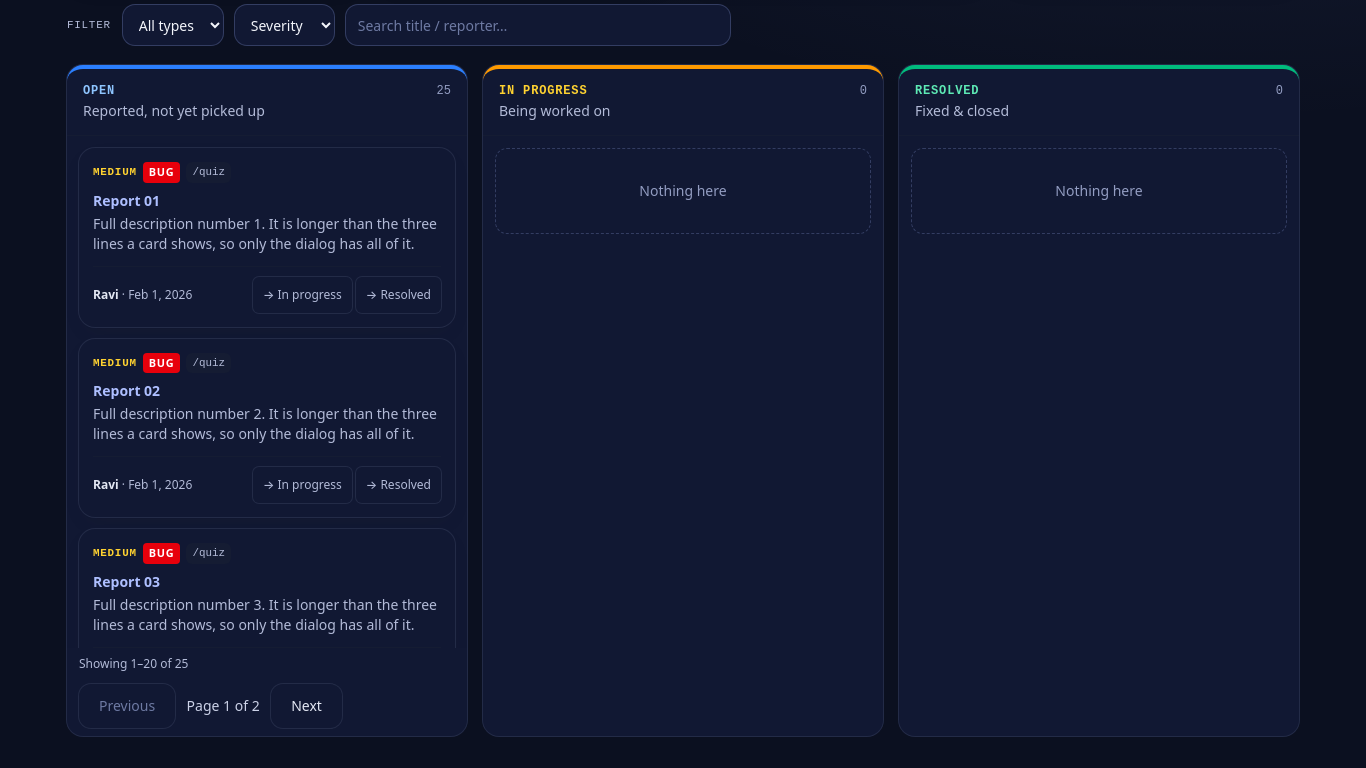
it: Bug Tracker: 20 cards per column page, and every card opens › a new filter sends every column back to page 1
The width and height of the screenshot is (1366, 768).
(page scrolled)
Click the button with aria-label "Open pagination: next page".
click(306, 706)  # box [271, 684, 342, 728]
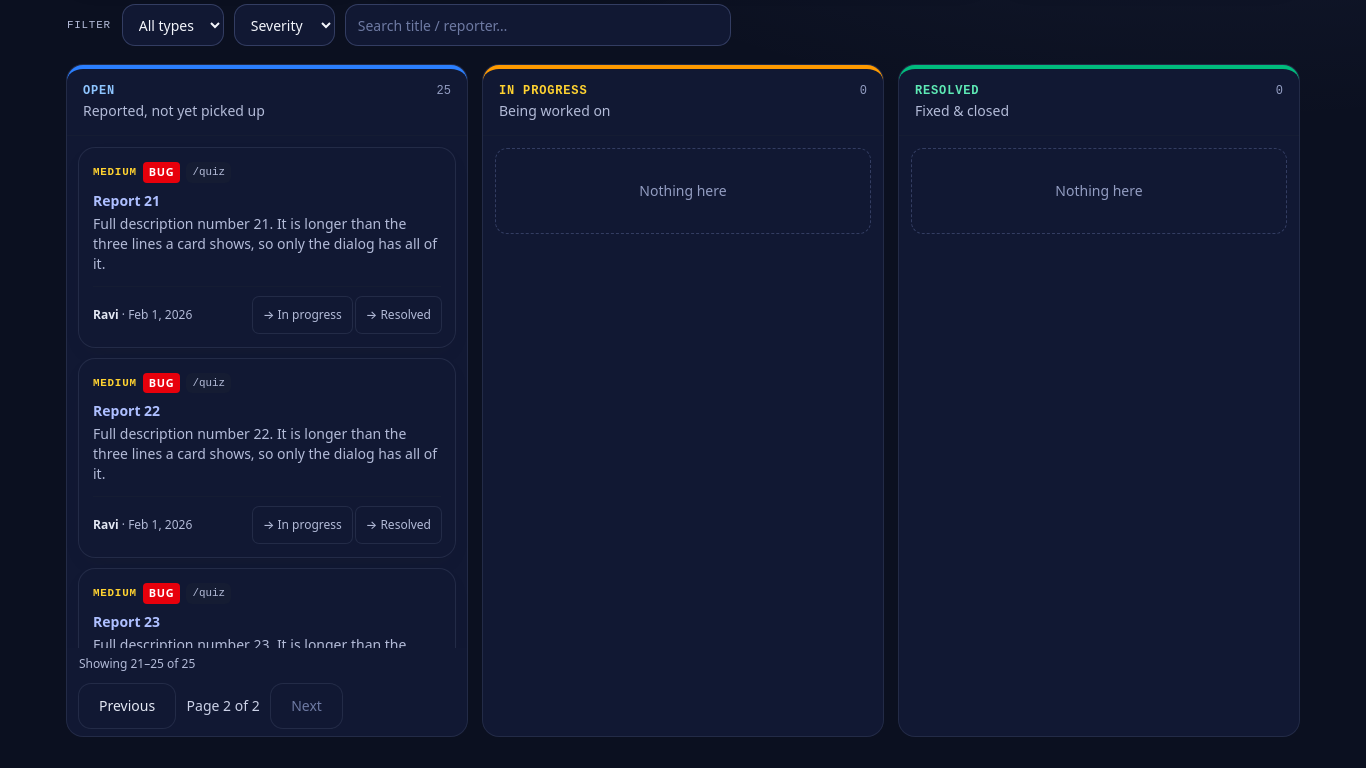
Expected: the text "Showing 21–25 of 25" is shown, [79, 656, 195, 672]
Type "Report 0" into the search field named "Search title or reporter".
click(538, 25); type("Report 0")  # box [346, 5, 730, 45]
(page scrolled)
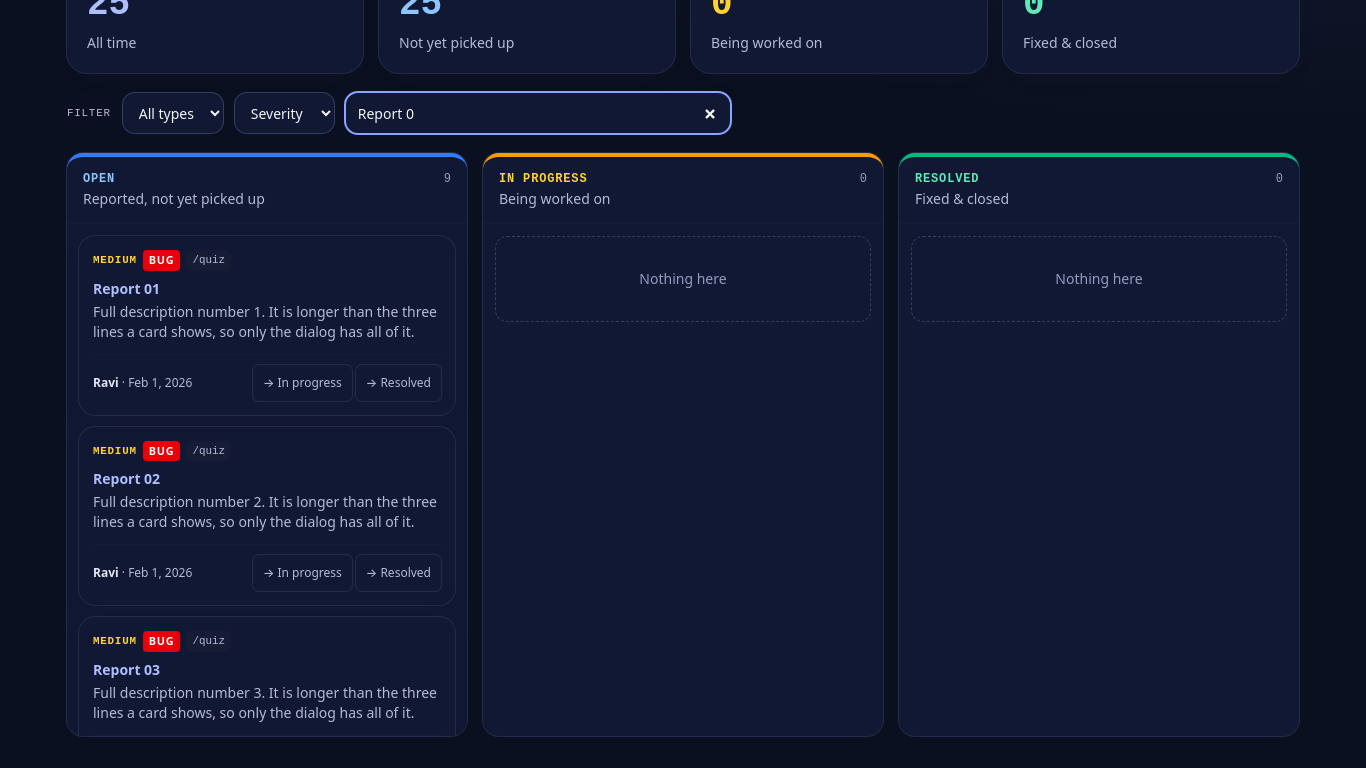
Expected: the text "Showing 21" is gone
